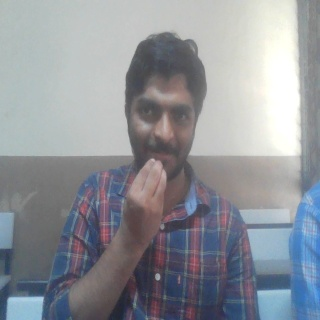Food: (122, 157, 168, 251)
